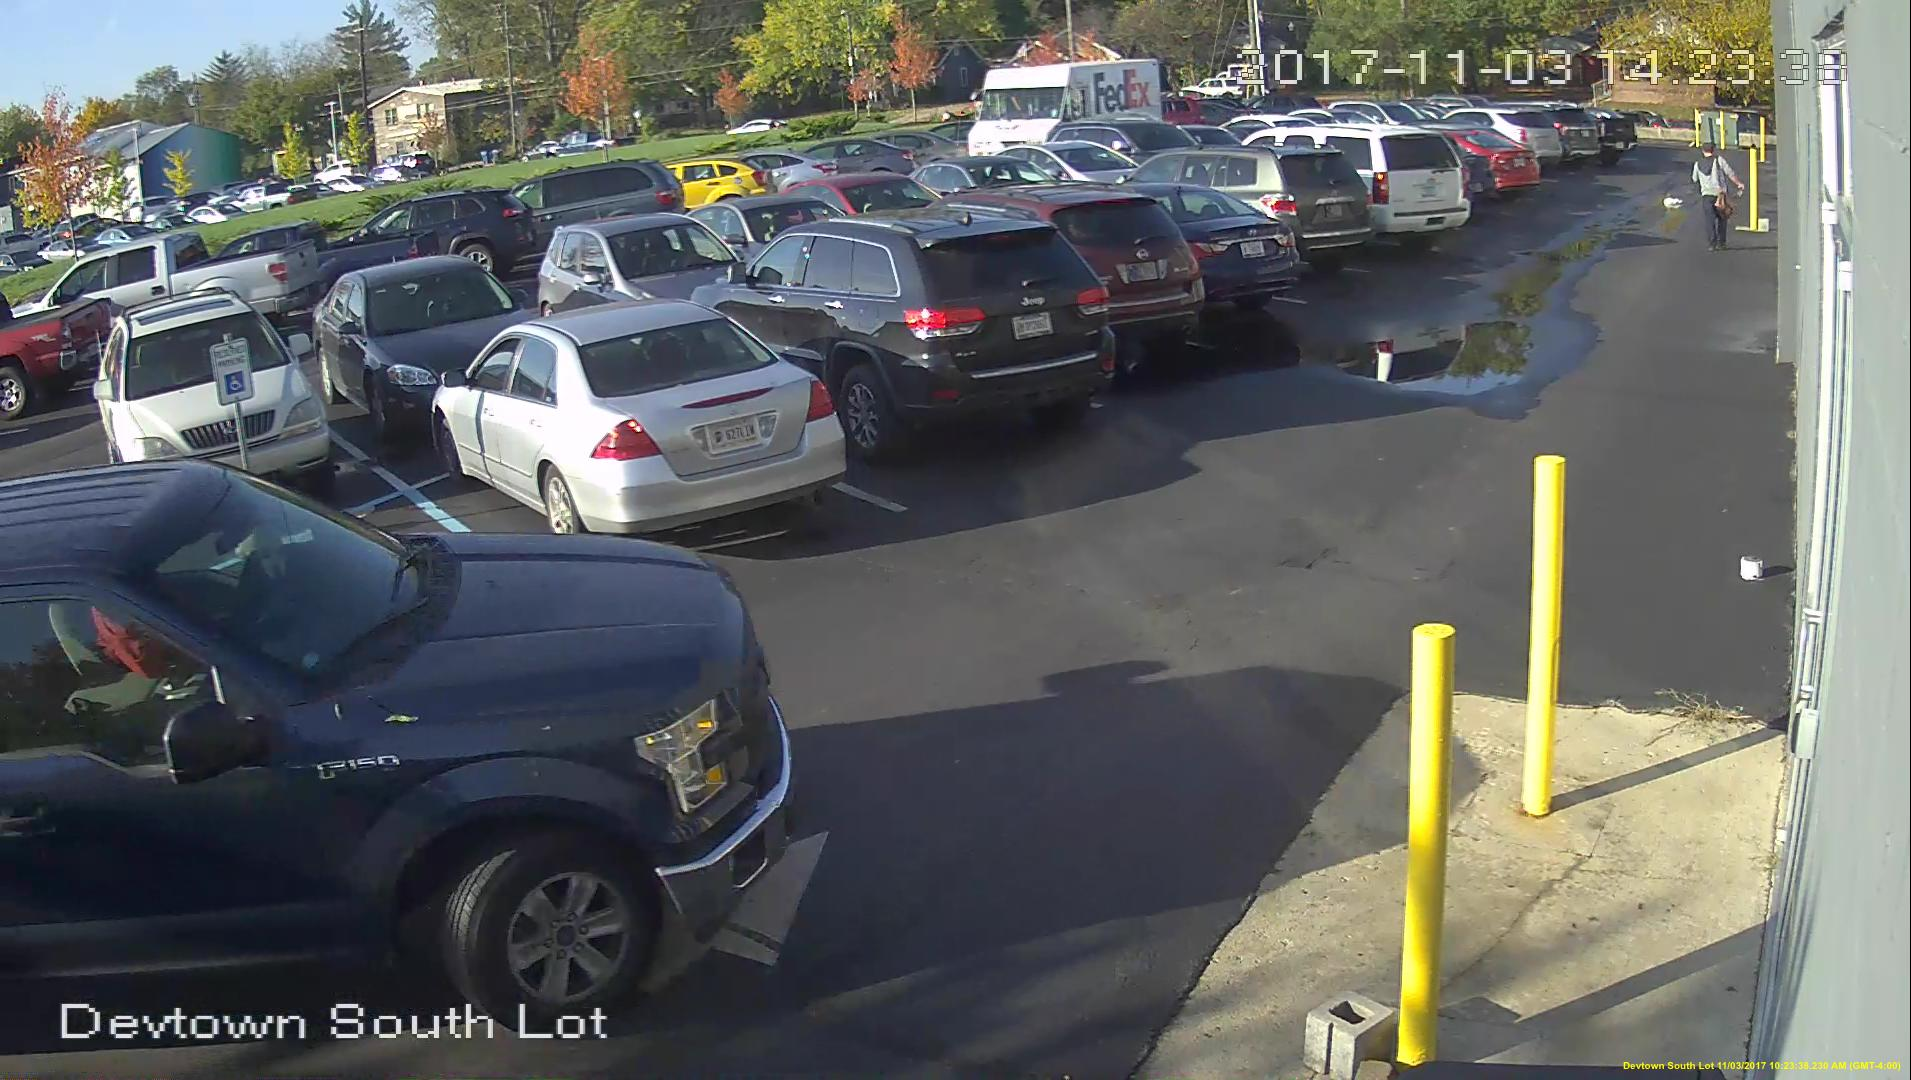fedex_truck: (963, 54, 1167, 172)
